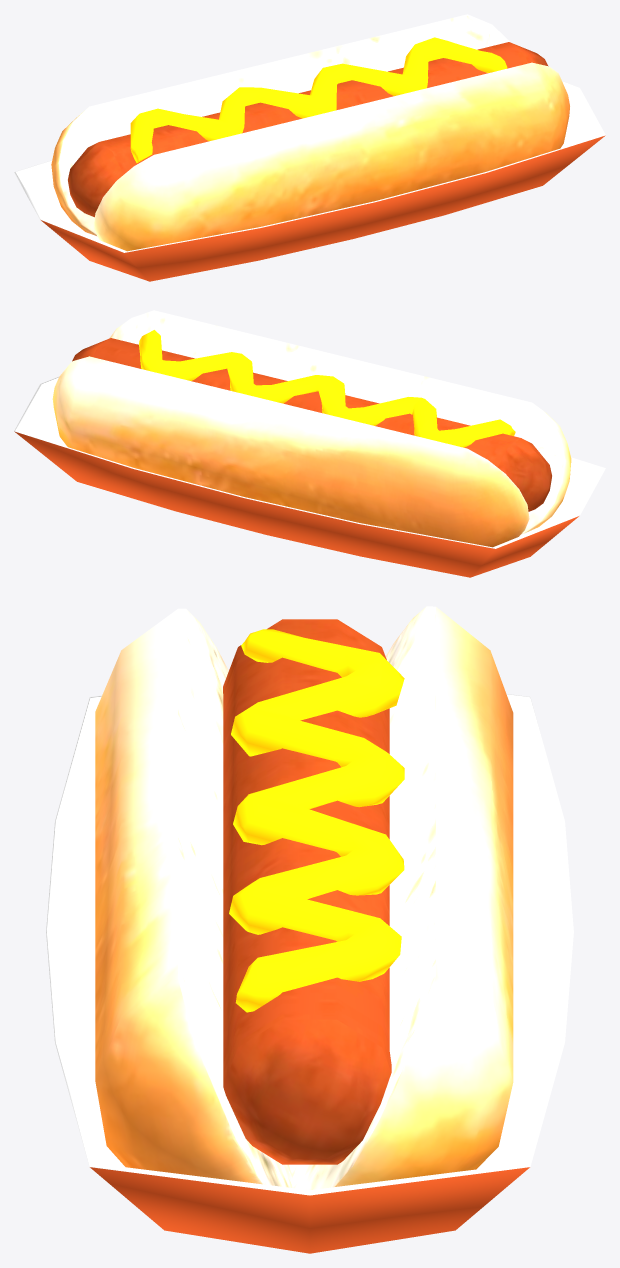
3 renders of one model, top to bottom at view 1: azimuth 30°, elevation 25°; view 2: azimuth 150°, elevation 25°; view 3: azimuth 270°, elevation 25°, orthographic. The views are drawn at different scales.
Visible parts, largest first — view 1: Hotdog; view 2: Hotdog; view 3: Hotdog.
Part boxes in pixels (left/top/right/bottom): Hotdog: left=14, top=14, right=605, bottom=281; Hotdog: left=14, top=310, right=605, bottom=577; Hotdog: left=46, top=606, right=573, bottom=1253.
Bounding box in the file's own units: 397 × 86.8 × 168.
Materials: 1 (1 with a texture image).
